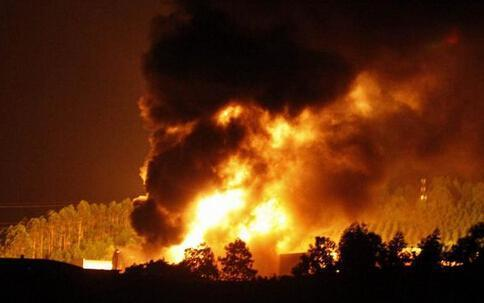fire: (162, 118, 398, 257)
